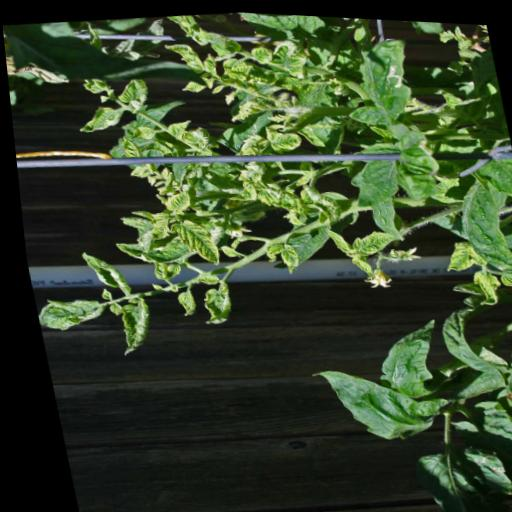Healthy: (297, 353, 448, 448), (359, 313, 445, 398), (335, 136, 410, 211)
Leaf_Miner: (330, 24, 425, 130)
Yellow Leaf Curl Virus: (101, 292, 153, 358), (27, 291, 101, 334), (167, 209, 222, 266), (69, 247, 127, 299), (247, 168, 304, 219), (187, 273, 232, 326), (161, 38, 211, 78), (70, 103, 127, 138), (266, 33, 310, 77), (432, 233, 483, 268), (342, 223, 396, 256), (259, 237, 300, 280), (133, 206, 173, 245), (259, 121, 305, 153), (214, 51, 254, 86), (463, 265, 499, 303), (152, 185, 191, 219), (113, 74, 152, 107), (163, 285, 195, 321), (249, 41, 279, 67), (160, 114, 189, 139), (126, 123, 154, 142)
